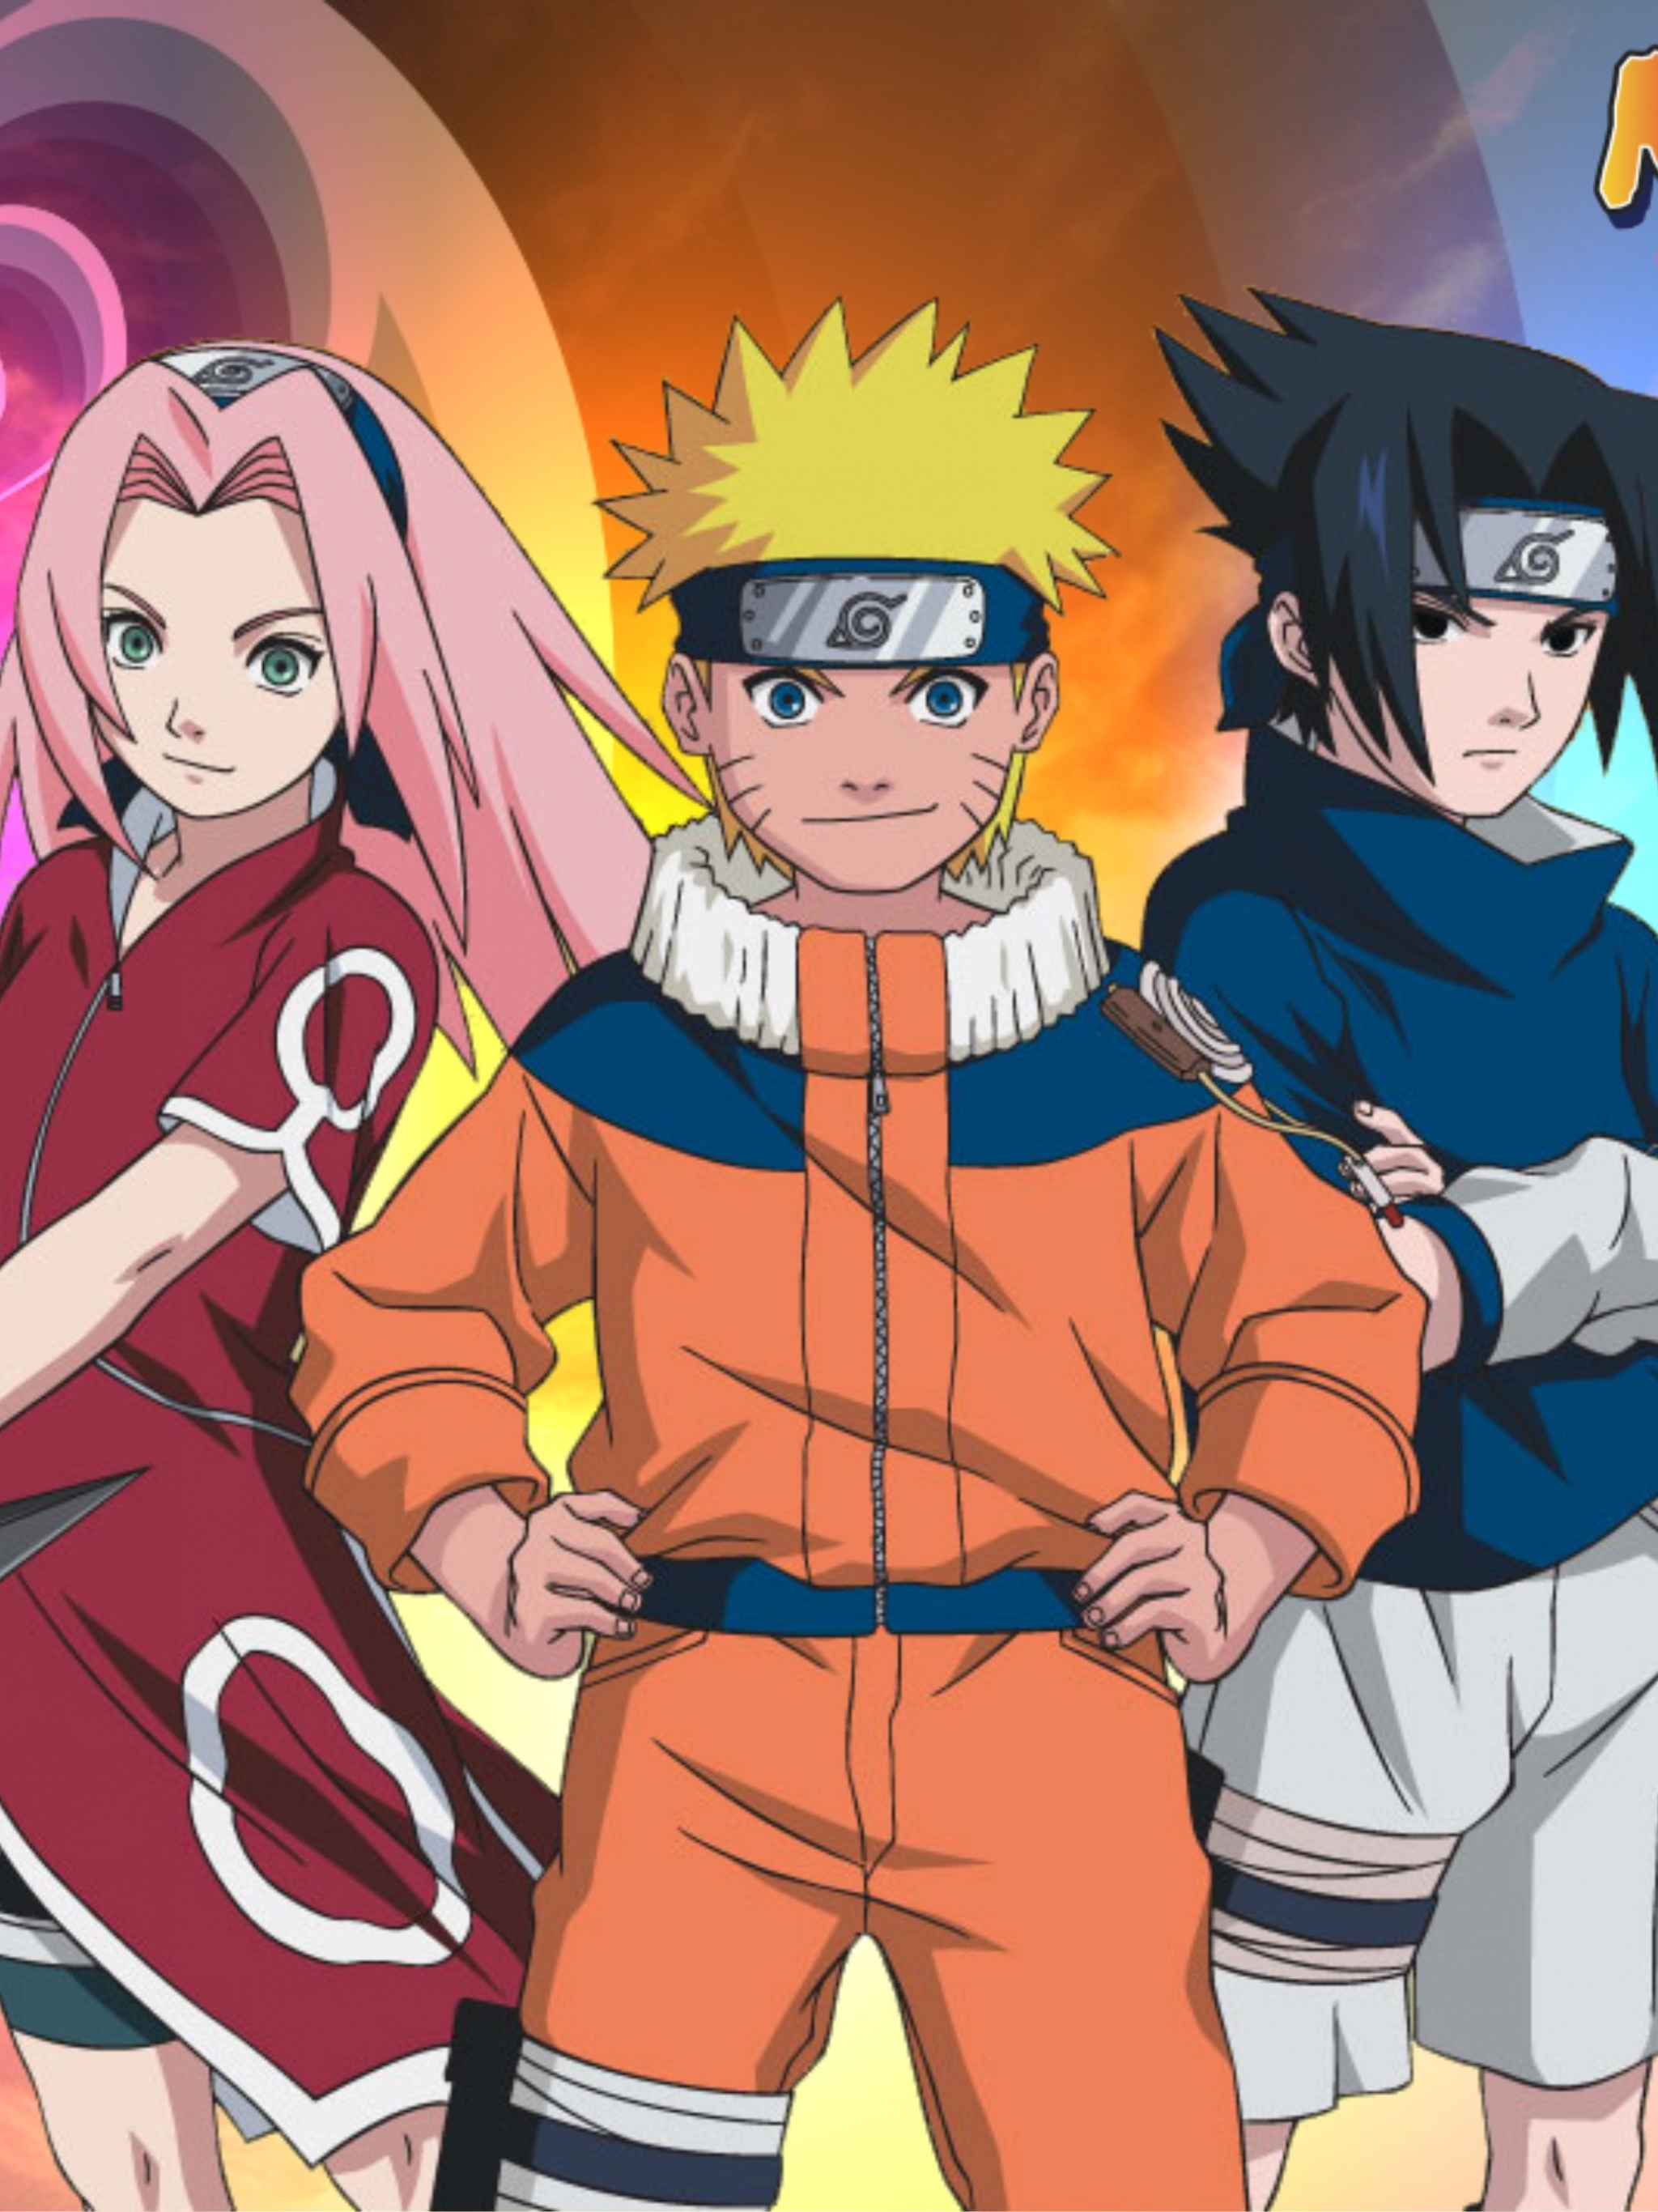naruto: (651, 554, 1068, 900)
sakura: (54, 340, 414, 824)
sasuke: (1252, 481, 1632, 824)
